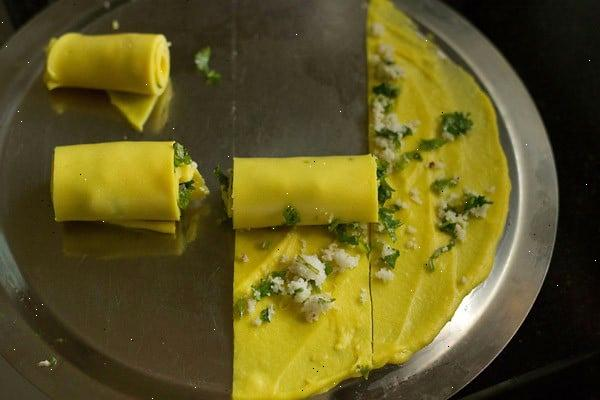khandvi: (47, 141, 450, 266)
